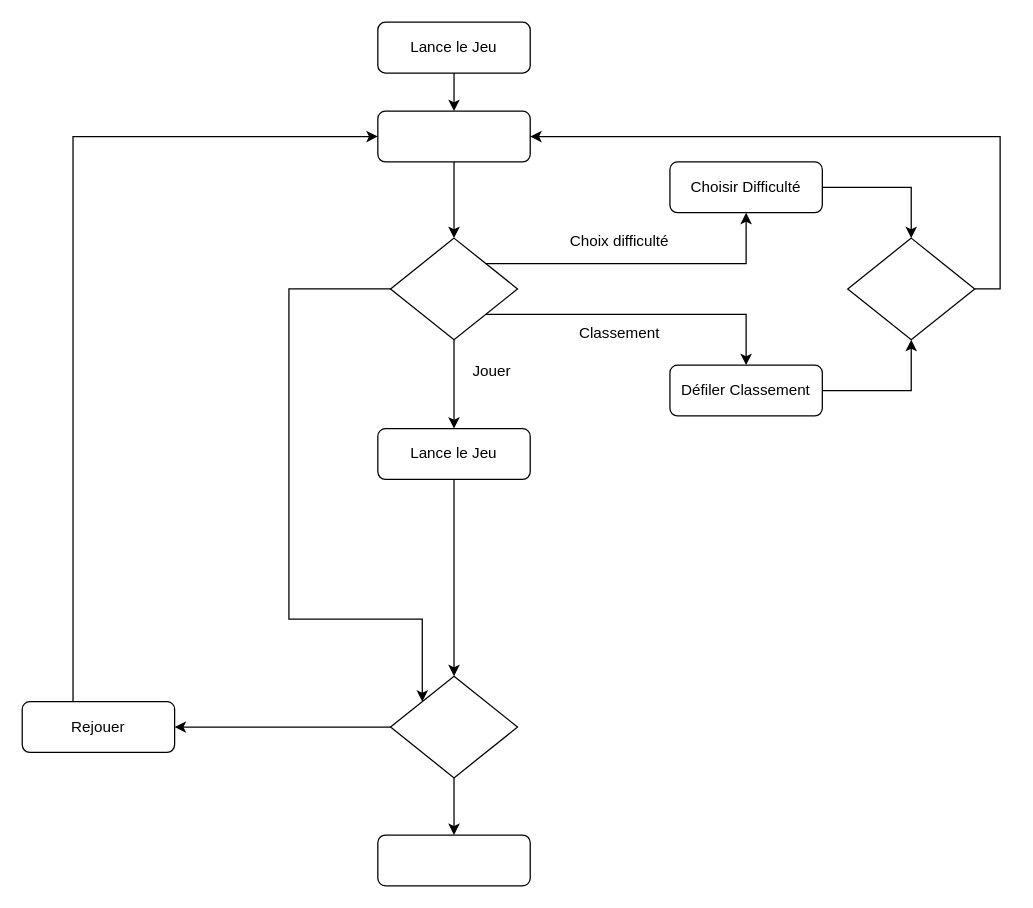
Image size: 1033x908. Some labels were removed from this diagram. The box of each missing label's shape, as (x1, y1, x2, y2) in pixels:
Choisir Menu: (377, 110, 530, 162)
Click sur ...: (389, 237, 518, 340)
Quitter le Jeu: (377, 834, 530, 886)
